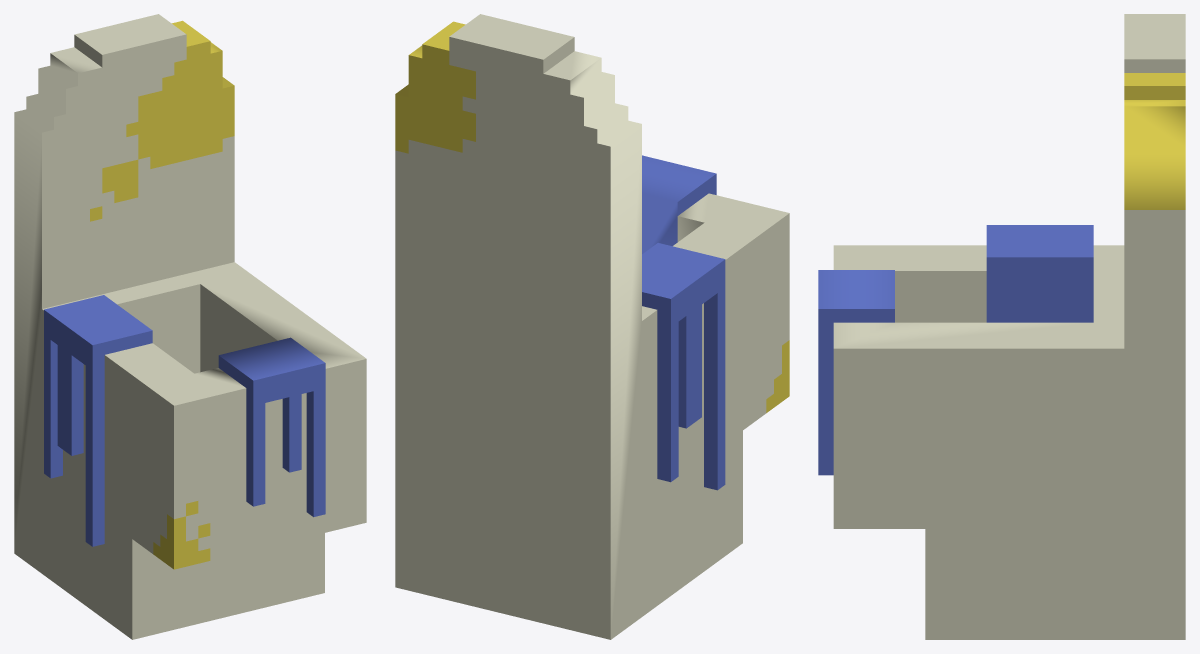
The model's file is dirtytoiletbowl.fbx.
3 views of the same model, side by side, from view 1: azimuth 30°, elevation 25°; view 2: azimuth 150°, elevation 25°; view 3: azimuth 270°, elevation 25° (orthographic). The views are drawn at different scales.
Parts seen in each view (by area): view 1: dirtytoiletbowl; view 2: dirtytoiletbowl; view 3: dirtytoiletbowl.
Boxes of the visible parts, x1,y1,x2,y2 form: dirtytoiletbowl: (14,14,366,639); dirtytoiletbowl: (395,14,789,639); dirtytoiletbowl: (818,14,1185,639).
Size of the model in its own units: 11.89 by 27.97 by 16.78.
